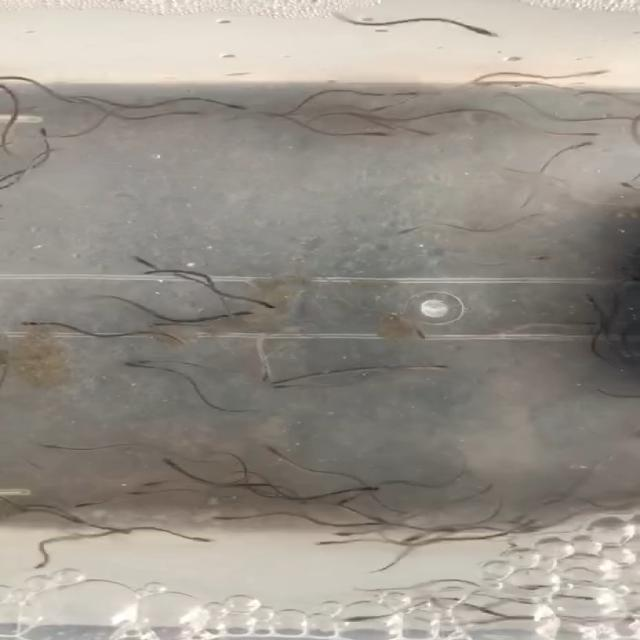active_glass_eel: (358, 103, 398, 114), (146, 455, 179, 466), (475, 25, 496, 41), (577, 293, 602, 305), (258, 299, 280, 310), (590, 65, 610, 77), (190, 535, 216, 544), (262, 446, 284, 456), (223, 104, 253, 111), (40, 442, 61, 452), (122, 490, 148, 498), (234, 309, 257, 318), (577, 140, 605, 147), (402, 88, 426, 96), (580, 130, 604, 138), (72, 502, 96, 510), (181, 111, 210, 117), (362, 485, 383, 493), (433, 364, 453, 372), (372, 132, 397, 138), (312, 541, 337, 547), (150, 321, 168, 329), (616, 182, 634, 189), (401, 537, 419, 544), (121, 362, 141, 368), (398, 228, 412, 236), (332, 532, 350, 538), (272, 385, 292, 390), (586, 320, 598, 328)
